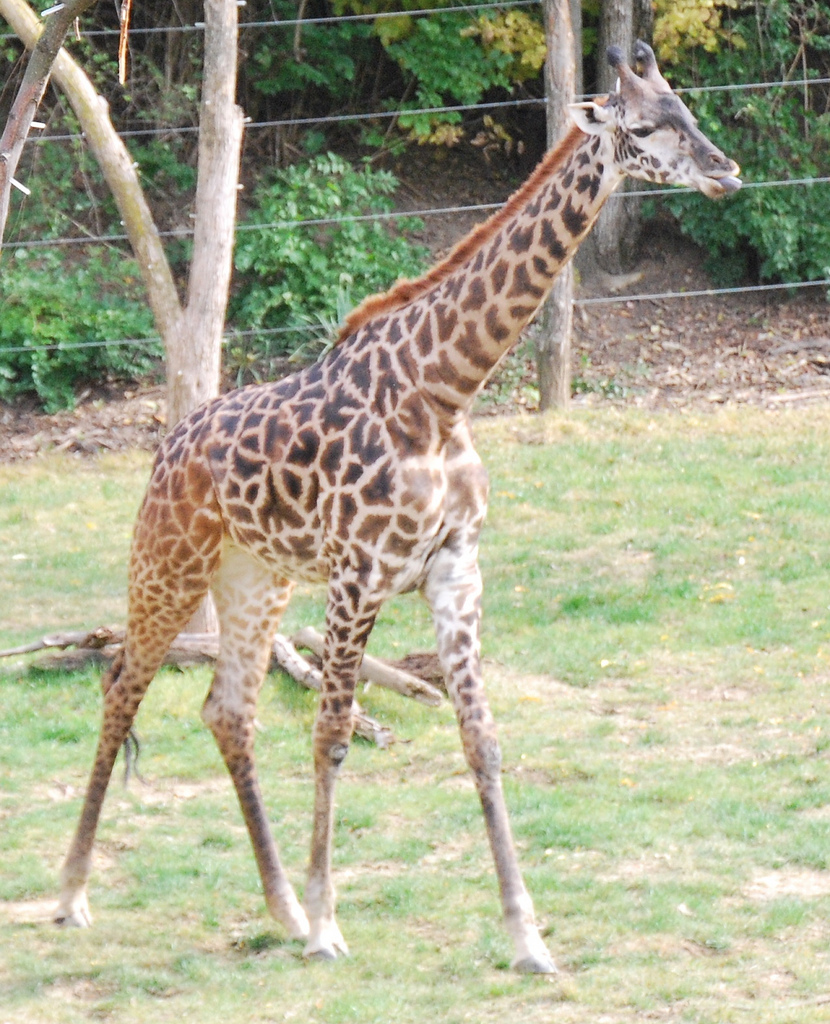giraffe: (68, 36, 756, 967)
